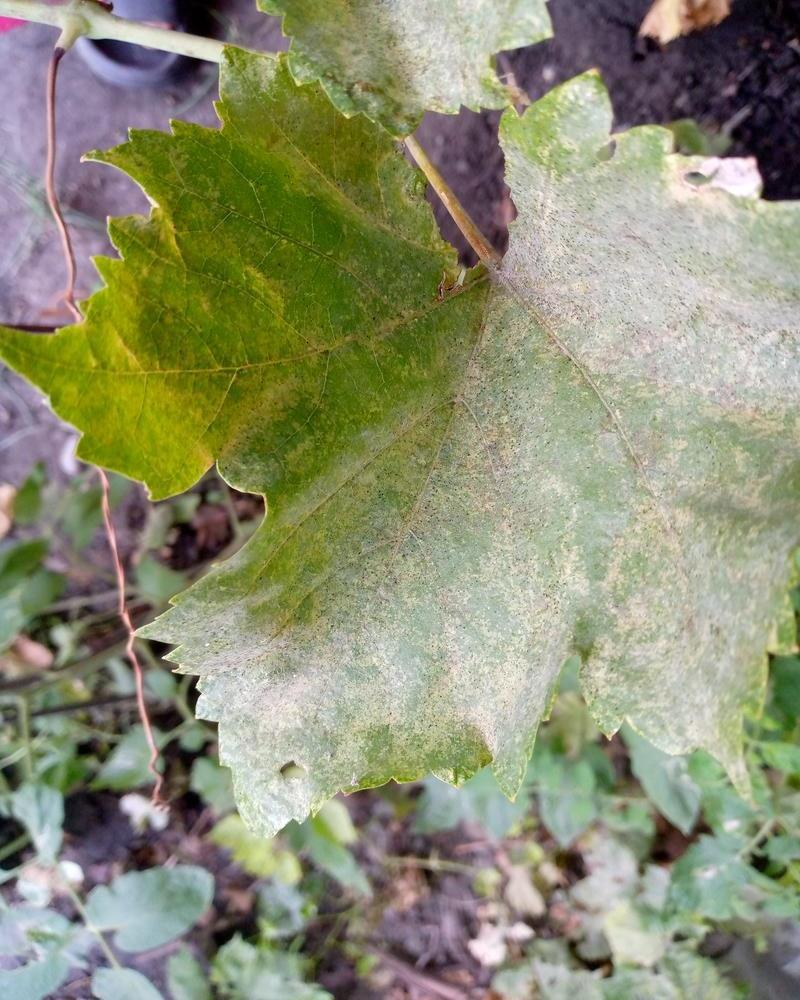Powdery-Mildew: (163, 383, 583, 831), (511, 169, 793, 508), (568, 509, 783, 788), (74, 325, 148, 446), (149, 415, 212, 478)
